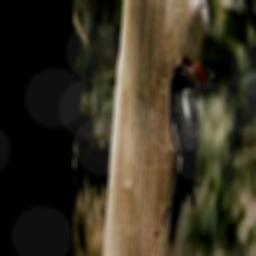Woodpecker: (168, 62, 205, 245)
